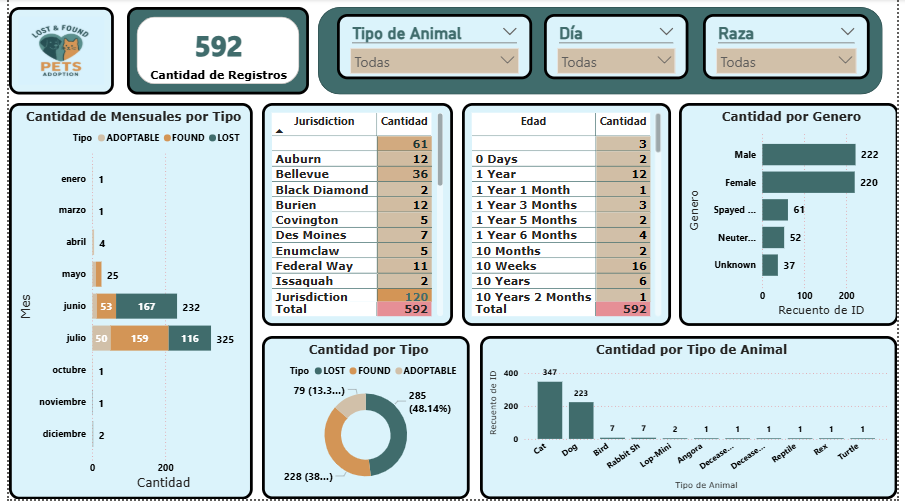

Layout of this report page (visuals, bound fields, positions):
{"tool":"powerbi","page":{"name":"Estadisticas","canvas":[1280,720],"ordinal":2},"visuals":[{"type":"shape","box":[445.1,11.8,813,126],"z":0},{"type":"image","box":[0,11.8,151.2,126],"z":1000},{"type":"barChart","title":"Cantidad de Mensuales por Tipo","fields":{"Category":["Lost_found_adoptable_pets.Fecha.Variación.Jerarquía de fechas.Mes"],"Y":["CountNonNull(Lost_found_adoptable_pets.ID)"],"Series":["Lost_found_adoptable_pets.Tipo"]},"box":[0,149.5,351.1,571.1],"z":2000},{"type":"donutChart","title":"Cantidad por Tipo","fields":{"Y":["CountNonNull(Lost_found_adoptable_pets.Tipo)"],"Category":["Lost_found_adoptable_pets.Tipo"]},"box":[364.5,485.5,299,235.2],"z":3000},{"type":"columnChart","title":"Cantidad por Tipo de Animal","fields":{"Category":["Lost_found_adoptable_pets.Tipo de Animal"],"Y":["CountNonNull(Lost_found_adoptable_pets.ID)"]},"box":[678.6,485.5,601.4,235.2],"z":4000},{"type":"barChart","title":"Cantidad por Genero","fields":{"Category":["Lost_found_adoptable_pets.Genero"],"Y":["CountNonNull(Lost_found_adoptable_pets.ID)"]},"box":[964.2,149.5,315.8,320.8],"z":5000},{"type":"pivotTable","fields":{"Rows":["Lost_found_adoptable_pets.jurisdiction"],"Values":["CountNonNull(Lost_found_adoptable_pets.ID)"]},"box":[364.5,149.5,275.5,320.8],"z":6000},{"type":"pivotTable","fields":{"Values":["CountNonNull(Lost_found_adoptable_pets.ID)"],"Rows":["Lost_found_adoptable_pets.Edad"]},"box":[651.8,149.5,300.7,320.8],"z":7000},{"type":"cardVisual","fields":{"Data":["CountNonNull(Lost_found_adoptable_pets.ID)"]},"box":[169.7,11.8,262,126],"z":8000},{"type":"slicer","fields":{"Values":["Lost_found_adoptable_pets.Tipo de Animal"]},"box":[472,21.8,280.5,94.1],"z":9000},{"type":"slicer","fields":{"Values":["Lost_found_adoptable_pets.Fecha.Variación.Jerarquía de fechas.Día"]},"box":[771,21.8,208.3,94.1],"z":10000},{"type":"slicer","fields":{"Values":["Lost_found_adoptable_pets.Raza"]},"box":[999.5,21.8,240.2,94.1],"z":11000}]}

Visuals, with their boxes in screenshot pixels (x1, y1, x2, y2), scaled from the page's 1280x720 canvas onto the 905x504 screenshot:
shape: 315,8,890,96
image: 0,8,107,96
"Cantidad de Mensuales por Tipo" barChart: 0,105,248,503
"Cantidad por Tipo" donutChart: 258,340,469,503
"Cantidad por Tipo de Animal" columnChart: 480,340,904,503
"Cantidad por Genero" barChart: 682,105,904,329
pivotTable - Lost_found_adoptable_pets.jurisdiction x CountNonNull(Lost_found_adoptable_pets.ID): 258,105,452,329
pivotTable - CountNonNull(Lost_found_adoptable_pets.ID) x Lost_found_adoptable_pets.Edad: 461,105,673,329
cardVisual - CountNonNull(Lost_found_adoptable_pets.ID): 120,8,305,96
slicer - Lost_found_adoptable_pets.Tipo de Animal: 334,15,532,81
slicer - Lost_found_adoptable_pets.Fecha.Variación.Jerarquía de fechas.Día: 545,15,692,81
slicer - Lost_found_adoptable_pets.Raza: 707,15,877,81
